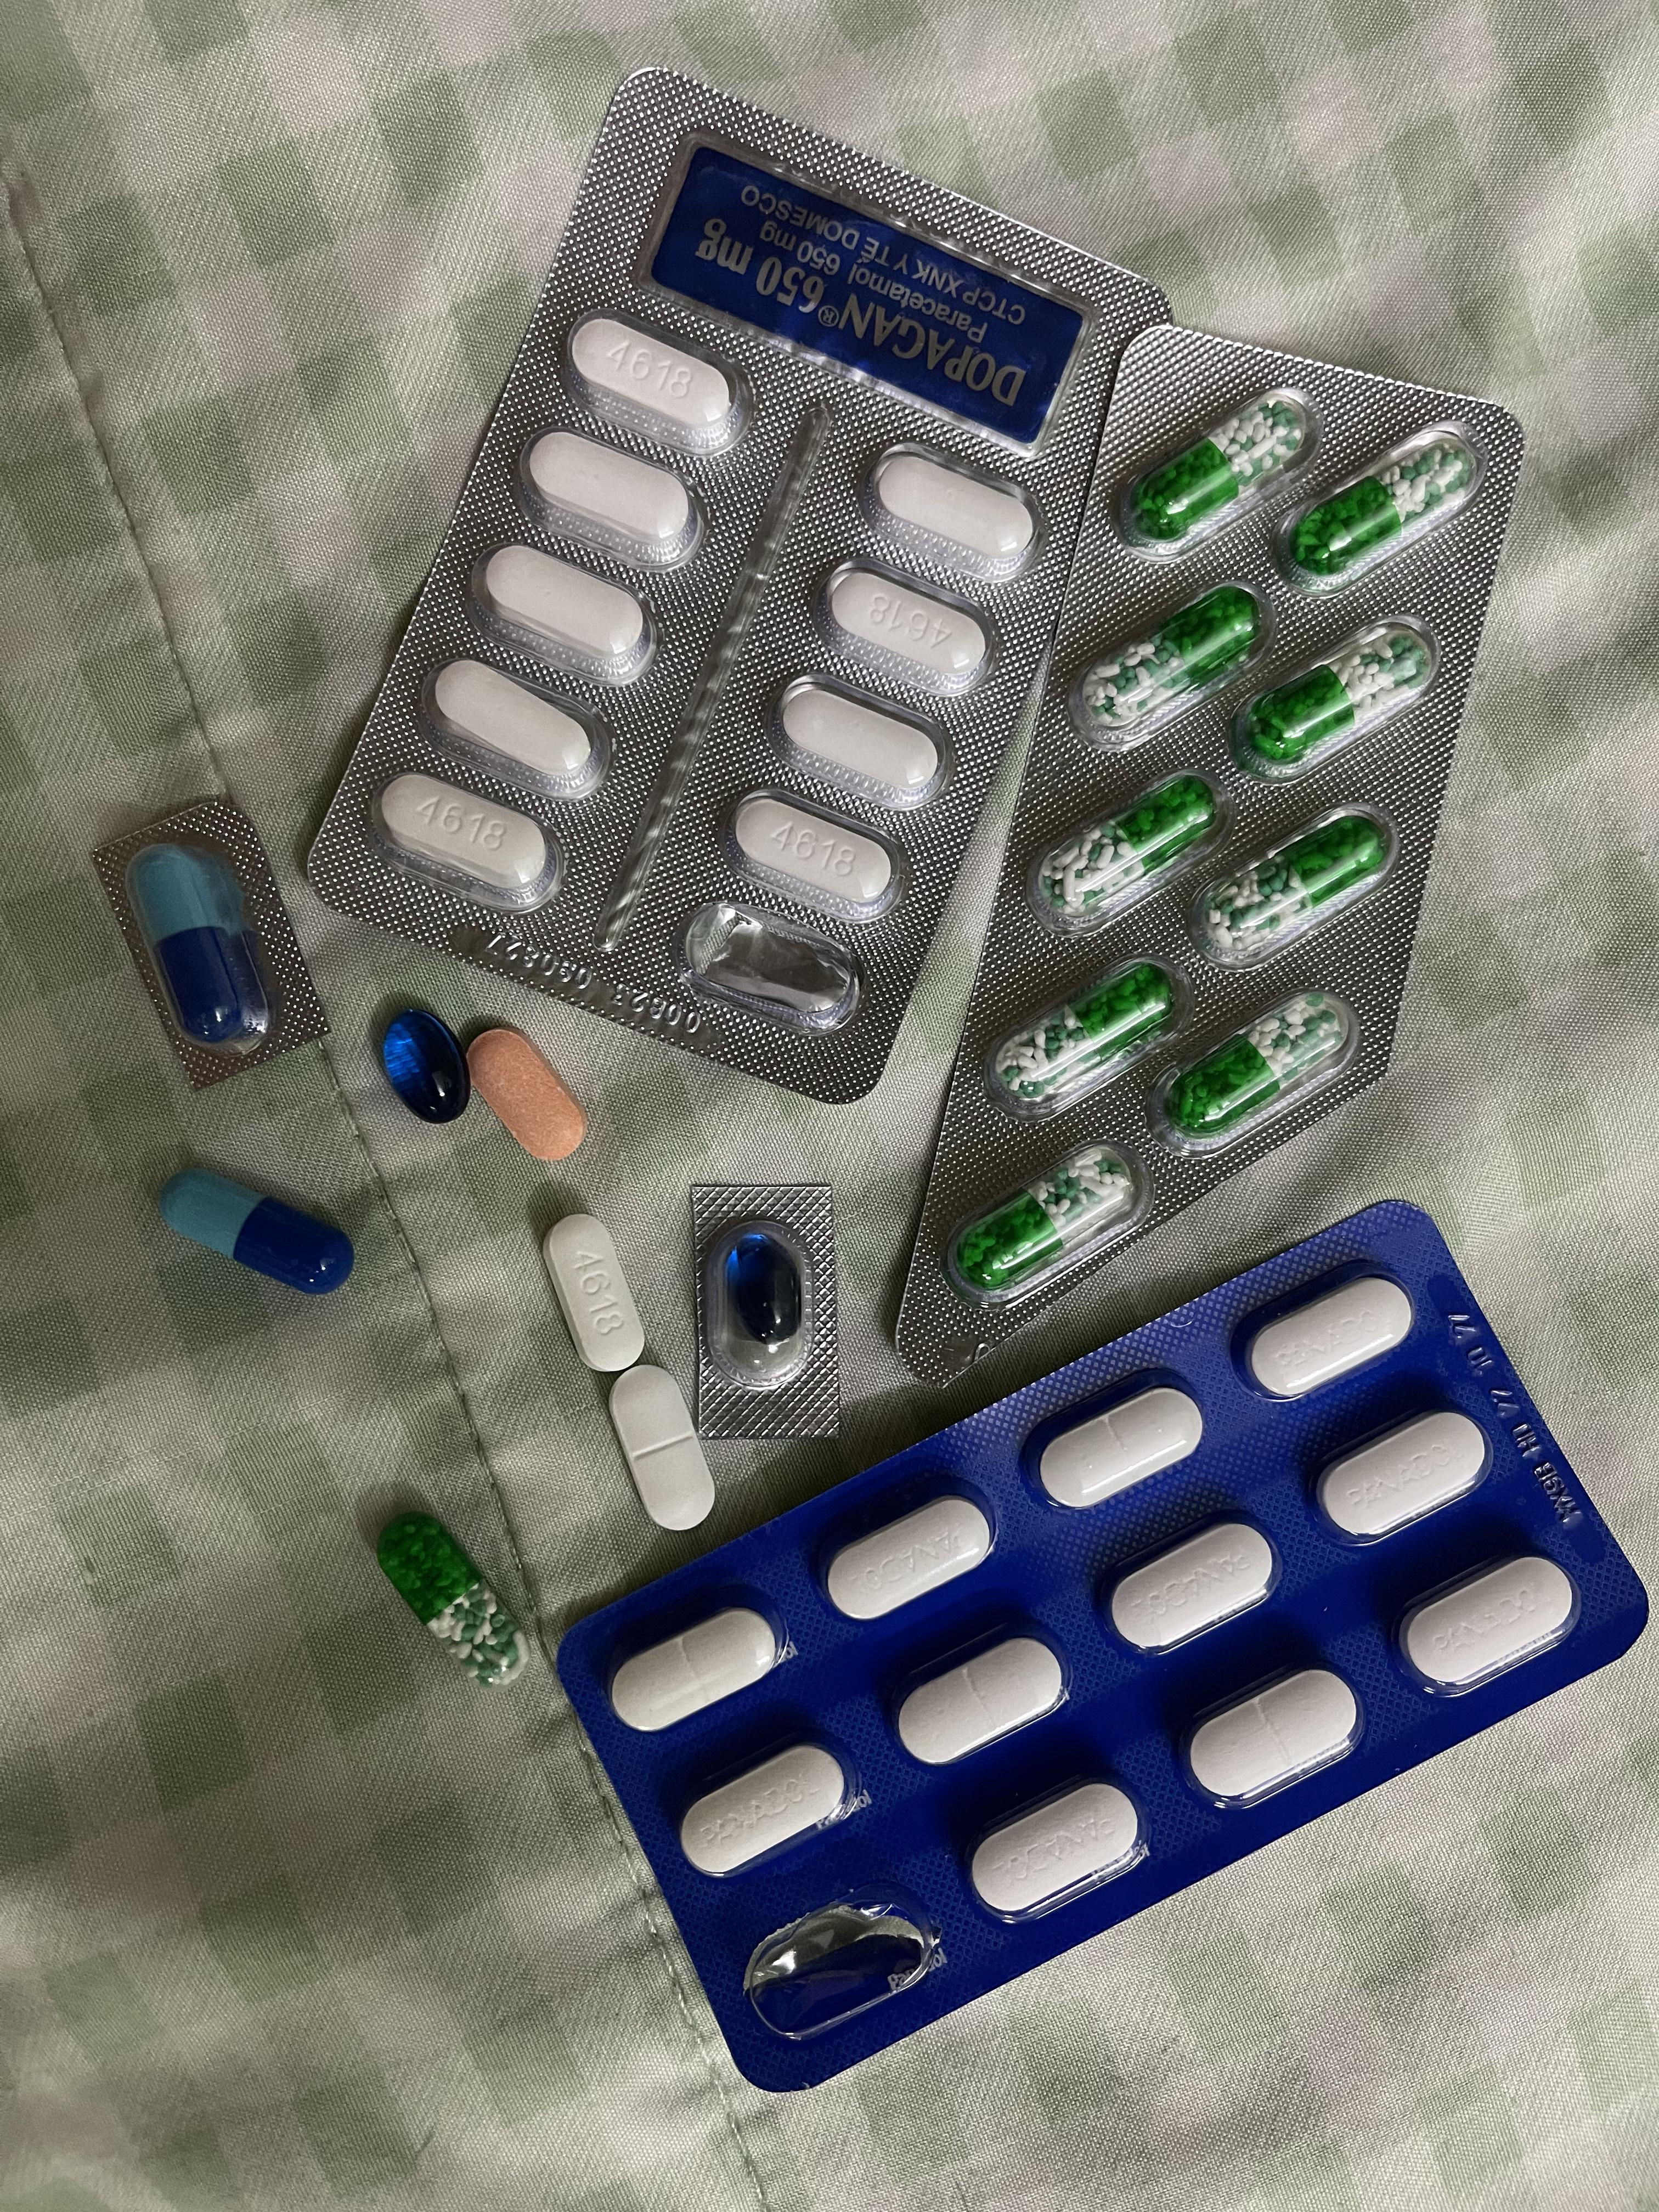Lincomyxin_500mg: (382, 1010, 472, 1122), (730, 1235, 805, 1345)
Loratadine_10mg: (469, 1024, 589, 1165)
Paracetamol_350mg: (1396, 1552, 1582, 1696), (965, 1775, 1145, 1923), (892, 1618, 1068, 1768), (1183, 1663, 1363, 1810), (678, 1735, 854, 1883), (1098, 1517, 1279, 1660), (1025, 1372, 1206, 1508), (1310, 1407, 1490, 1541), (821, 1489, 999, 1620), (610, 1601, 779, 1735), (1249, 1273, 1417, 1397), (606, 1364, 720, 1534)
Paracetamol_500mg: (471, 543, 652, 691), (425, 655, 601, 794), (380, 772, 559, 904), (775, 681, 946, 812), (871, 449, 1037, 577), (828, 570, 988, 691), (532, 430, 690, 542), (737, 796, 892, 907), (572, 319, 730, 427), (549, 1212, 647, 1371)
Paracetamol_650mg: (1126, 394, 1309, 542), (376, 1508, 528, 1686), (1166, 991, 1347, 1139), (1241, 629, 1431, 770), (955, 1141, 1136, 1287), (997, 963, 1175, 1109), (1086, 589, 1260, 735), (1206, 817, 1389, 953), (1290, 441, 1471, 575), (1044, 777, 1215, 914)
pill: (160, 1167, 359, 1296), (134, 843, 247, 1047)
